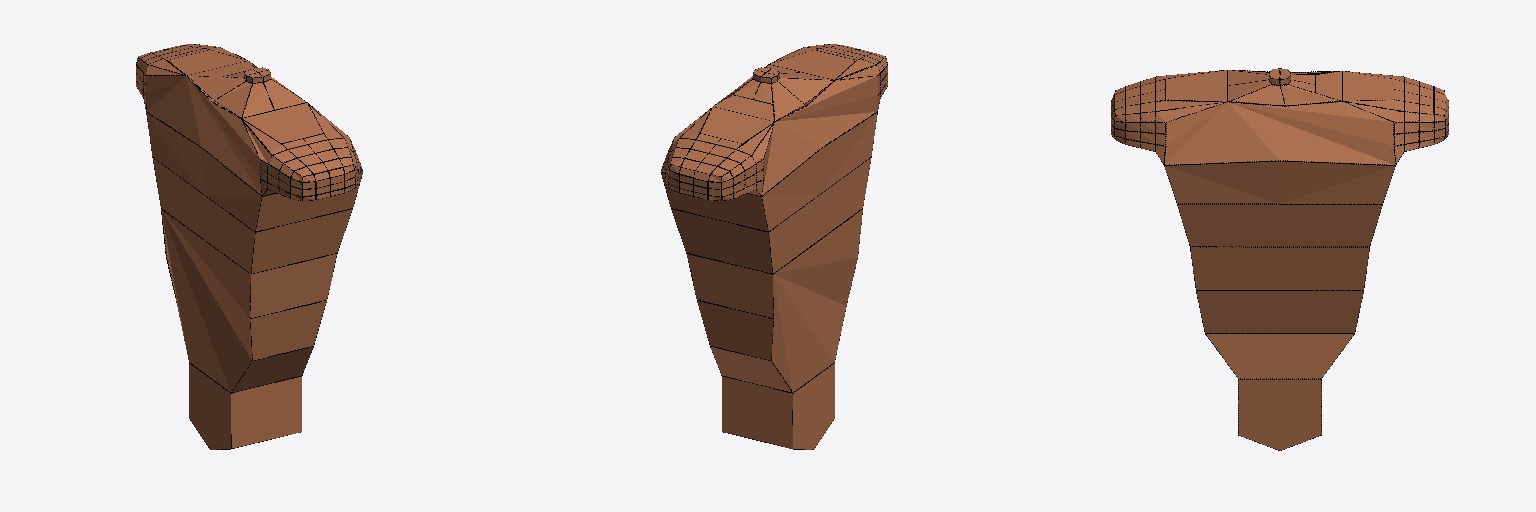
3 views of the same model, side by side, from view 1: azimuth 30°, elevation 25°; view 2: azimuth 150°, elevation 25°; view 3: azimuth 270°, elevation 25° (orthographic).
Parts seen in each view (by area): view 1: body3_body_Cube.001; view 2: body3_body_Cube.001; view 3: body3_body_Cube.001.
Part boxes in pixels (x1,y1,x2,y2): body3_body_Cube.001: (136, 44, 362, 449); body3_body_Cube.001: (661, 44, 887, 449); body3_body_Cube.001: (1111, 68, 1448, 450).
Size of the model in its own units: 0.1354 by 0.4365 by 0.3658.
Materials: 1 (1 with a texture image).